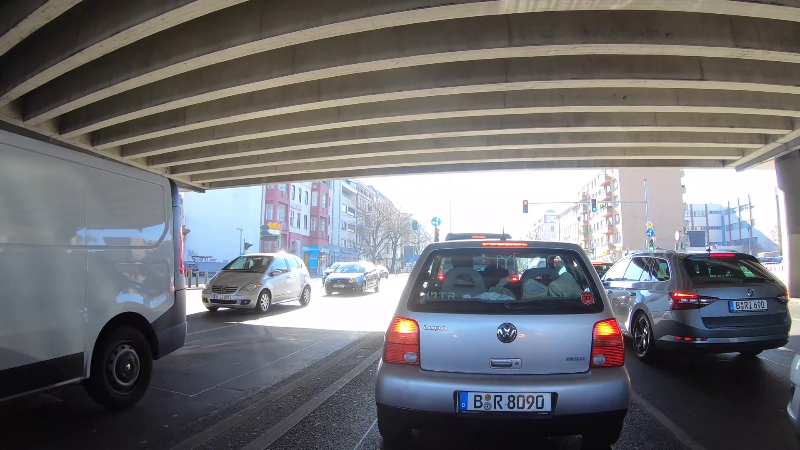Plate: (455, 388, 555, 414), (727, 298, 772, 312), (212, 293, 233, 300)
